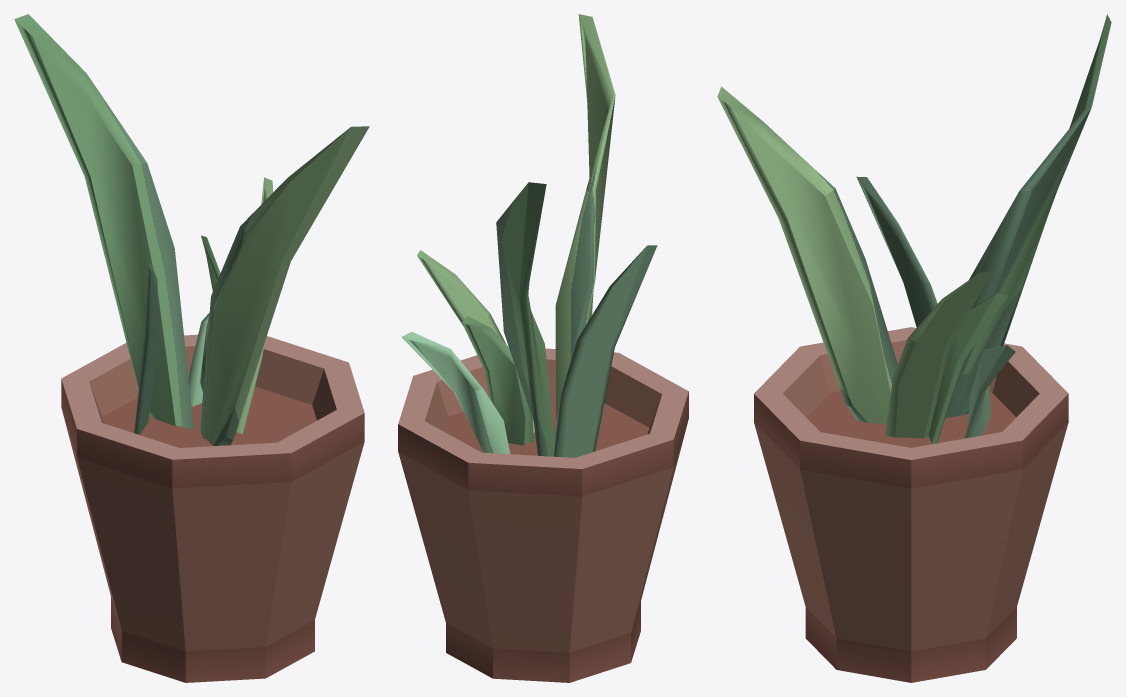
Rendered from plant_grass.fbx.
3 renders of one model, left to right at view 1: azimuth 30°, elevation 25°; view 2: azimuth 150°, elevation 25°; view 3: azimuth 270°, elevation 25°, orthographic. The views are drawn at different scales.
Parts seen in each view (by area): view 1: pot; view 2: pot; view 3: pot.
Boxes of the visible parts, <box> form: pot: <box>14,14,369,682</box>; pot: <box>398,14,688,682</box>; pot: <box>717,14,1111,682</box>.
Bounding box in the file's own units: 0.8277 × 1.67 × 1.04.
Materials: 1 (1 with a texture image).
